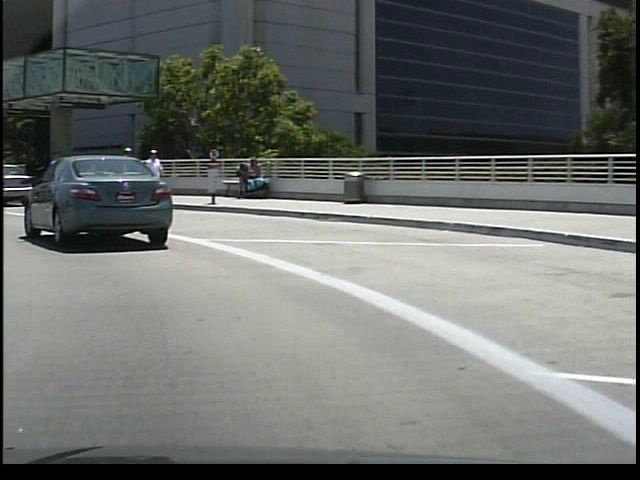person: (39, 149, 65, 212), (139, 146, 161, 203), (113, 144, 134, 200)
